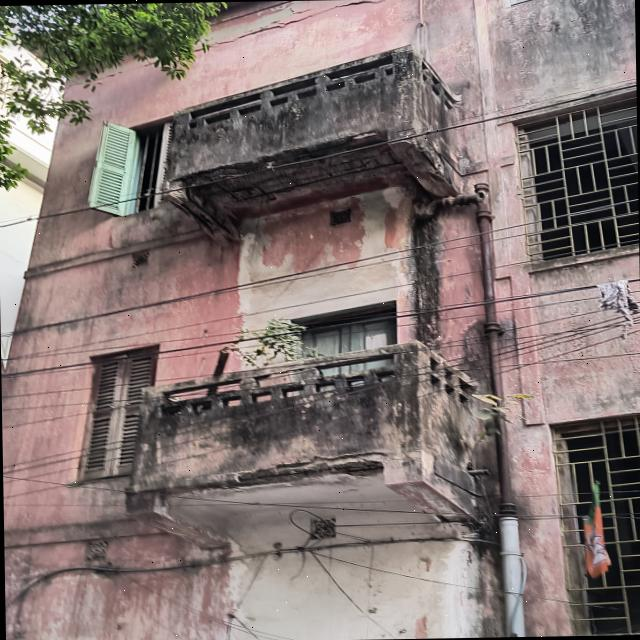stain_mould: (120, 341, 525, 569), (166, 45, 476, 254), (411, 210, 480, 354)
